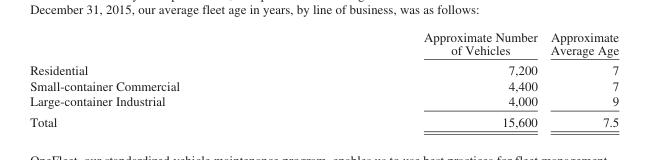table: (29, 29, 618, 128)
table column: (29, 29, 300, 128), (300, 29, 543, 128), (543, 29, 618, 128)
table column header: (29, 29, 618, 59)
table row: (29, 29, 618, 59), (29, 59, 618, 77), (29, 93, 618, 111), (29, 111, 618, 128), (29, 77, 618, 93)
